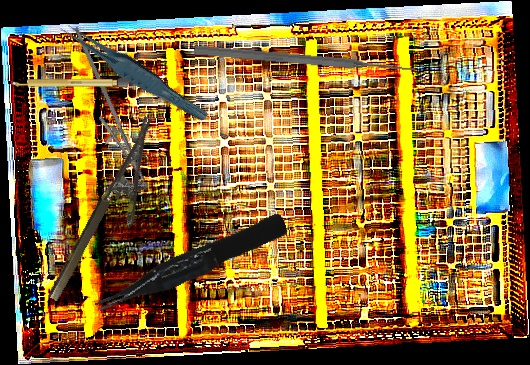Needle Holder: (45, 115, 182, 316), (45, 26, 164, 189)
Pusher: (193, 43, 417, 77)
Scalpel Handle: (12, 78, 128, 87)
Tissue Forceps: (88, 212, 292, 316), (57, 9, 210, 133)
